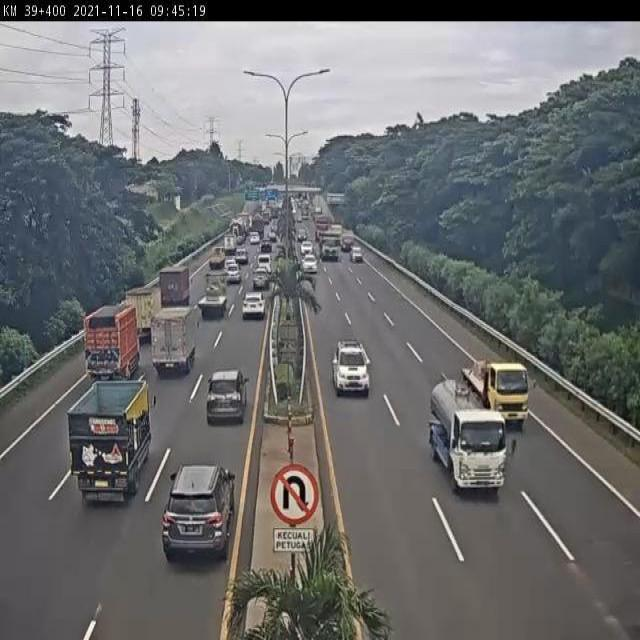car: (163, 464, 236, 556), (330, 338, 372, 398), (205, 375, 247, 428), (239, 296, 265, 327), (250, 272, 270, 297), (229, 248, 248, 271), (220, 265, 237, 287)
small bus: (254, 259, 273, 280)
small truck: (430, 376, 504, 497), (461, 357, 532, 428), (145, 307, 197, 377), (123, 288, 163, 341), (206, 247, 226, 270)
truck-m-: (71, 383, 152, 501), (80, 306, 137, 386), (158, 265, 189, 312), (196, 276, 225, 324)
